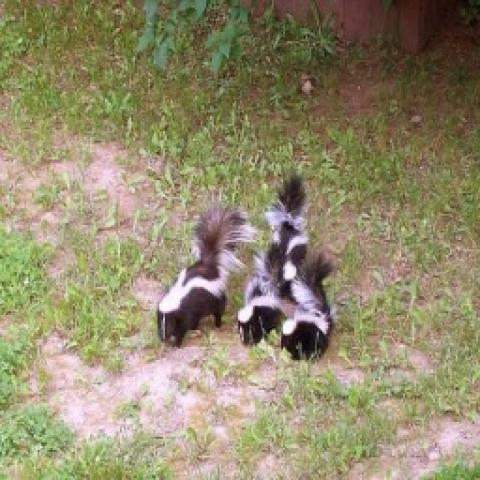small_animal: (152, 204, 232, 348), (238, 175, 302, 346), (280, 258, 331, 362)
